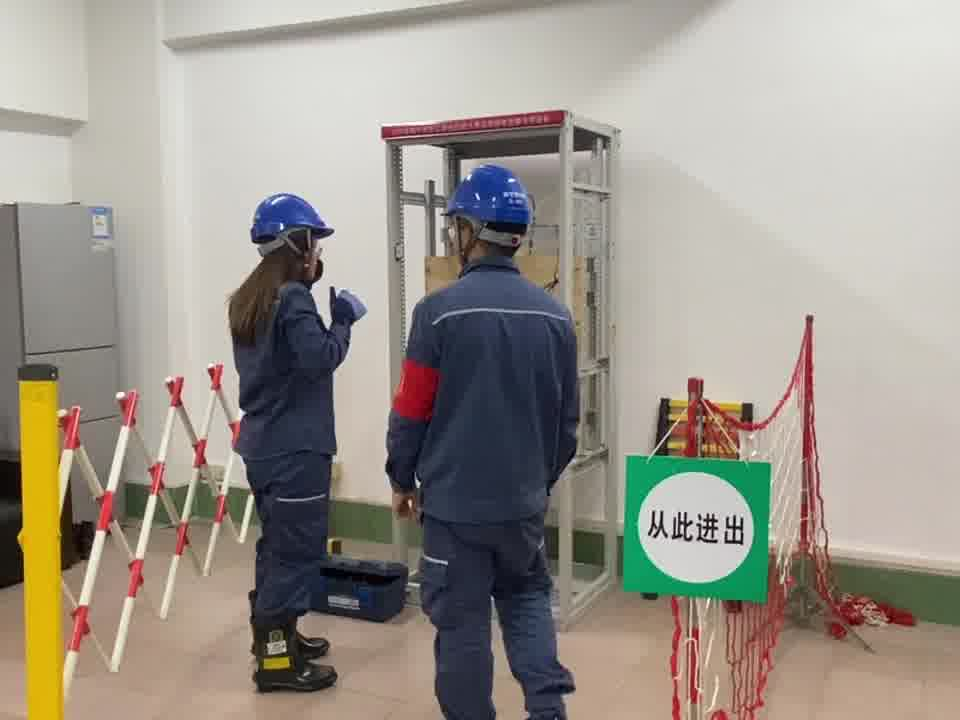badge: (392, 359, 442, 424)
downsuit: (420, 532, 575, 720), (243, 463, 336, 626)
glove: (329, 284, 367, 327)
hair: (221, 193, 336, 328)
halt: (444, 164, 538, 261)
hand: (389, 487, 420, 521)
inear: (440, 216, 492, 261)
intosign: (618, 446, 775, 607)
person: (383, 160, 587, 720), (221, 191, 369, 682)
shoe: (242, 598, 337, 688)
upsuit: (384, 263, 584, 520), (232, 279, 358, 457)
